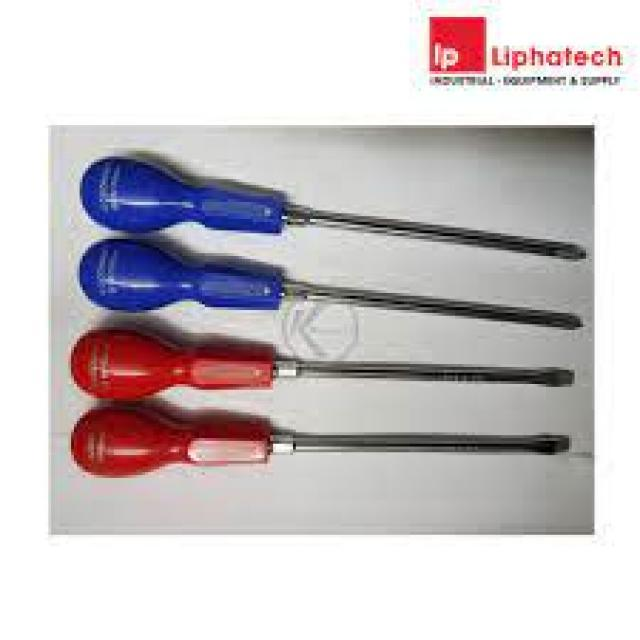screwdriver: (77, 151, 589, 259), (76, 233, 584, 330), (67, 324, 579, 404), (67, 402, 576, 477)
